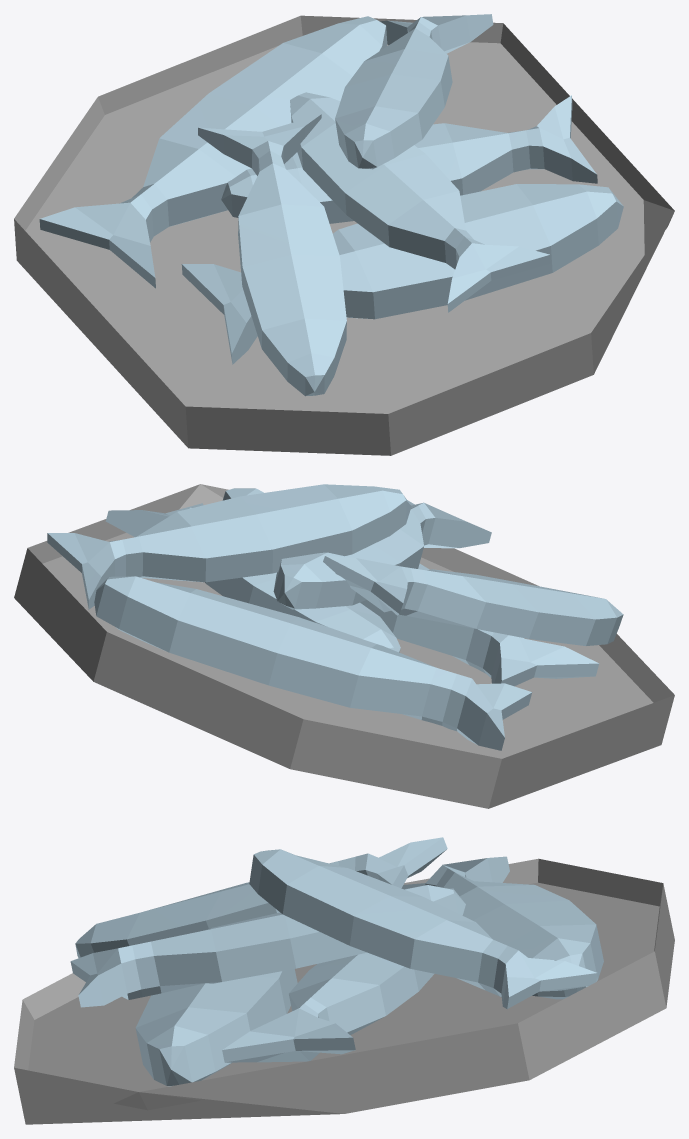
File: Metaltray.glb
The picture shows the model from 3 angles, top to bottom: view 1: azimuth 30°, elevation 25°; view 2: azimuth 150°, elevation 25°; view 3: azimuth 270°, elevation 25°; orthographic projection. The views are drawn at different scales.
Visible parts, largest first — view 1: Metaltray; view 2: Metaltray; view 3: Metaltray.
Part boxes in pixels (x1,y1,x2,y2): Metaltray: [14, 14, 674, 455]; Metaltray: [14, 484, 674, 808]; Metaltray: [14, 837, 674, 1124].
Size of the model in its own units: 0.6297 by 0.2874 by 0.668.
